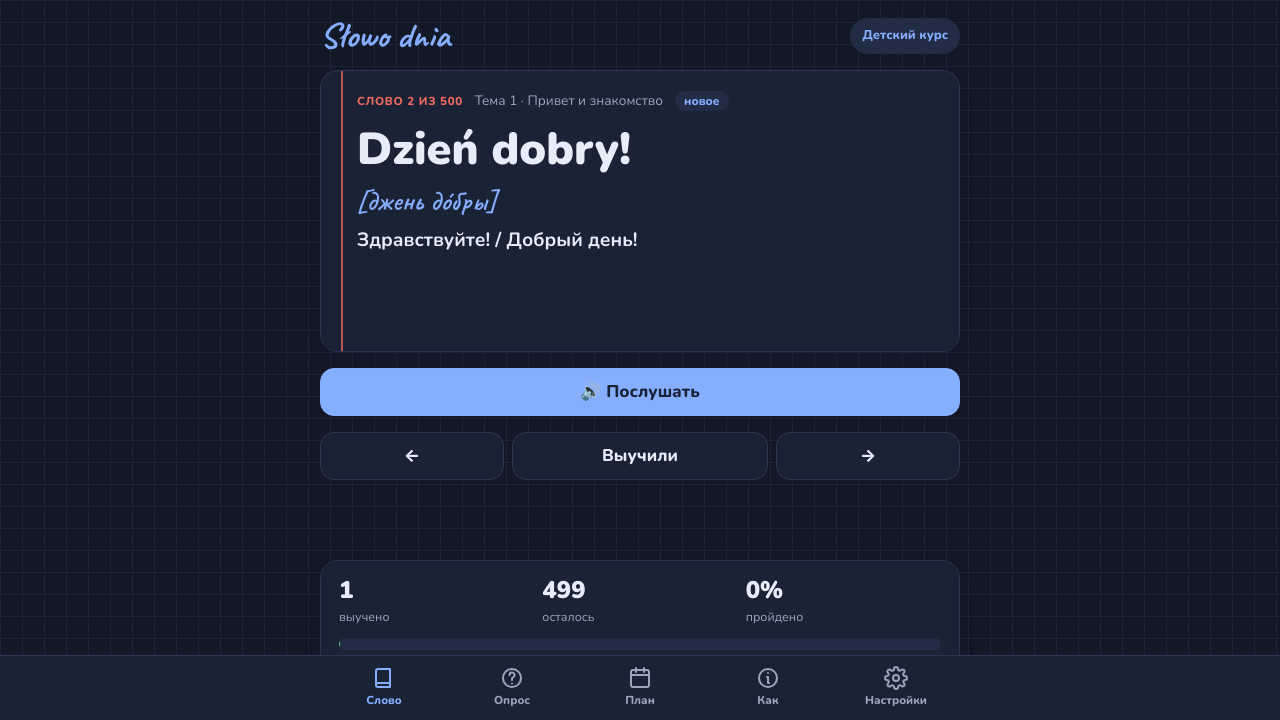
Test: "Вернуться к новому слову" › on another word: visible; a press opens the first unlearned word
Click the button named "Следующее слово".
click(868, 456)  # box [776, 432, 960, 480]
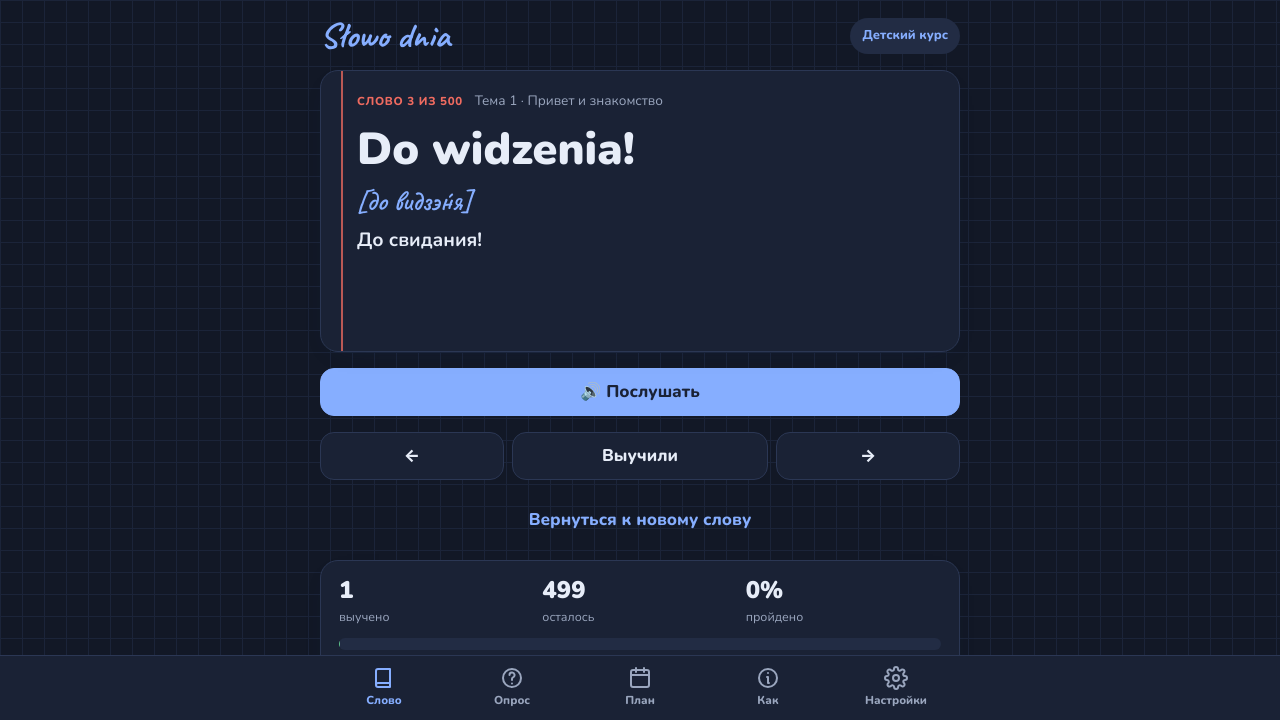
Click the button named "Следующее слово".
click(868, 456)  # box [776, 432, 960, 480]
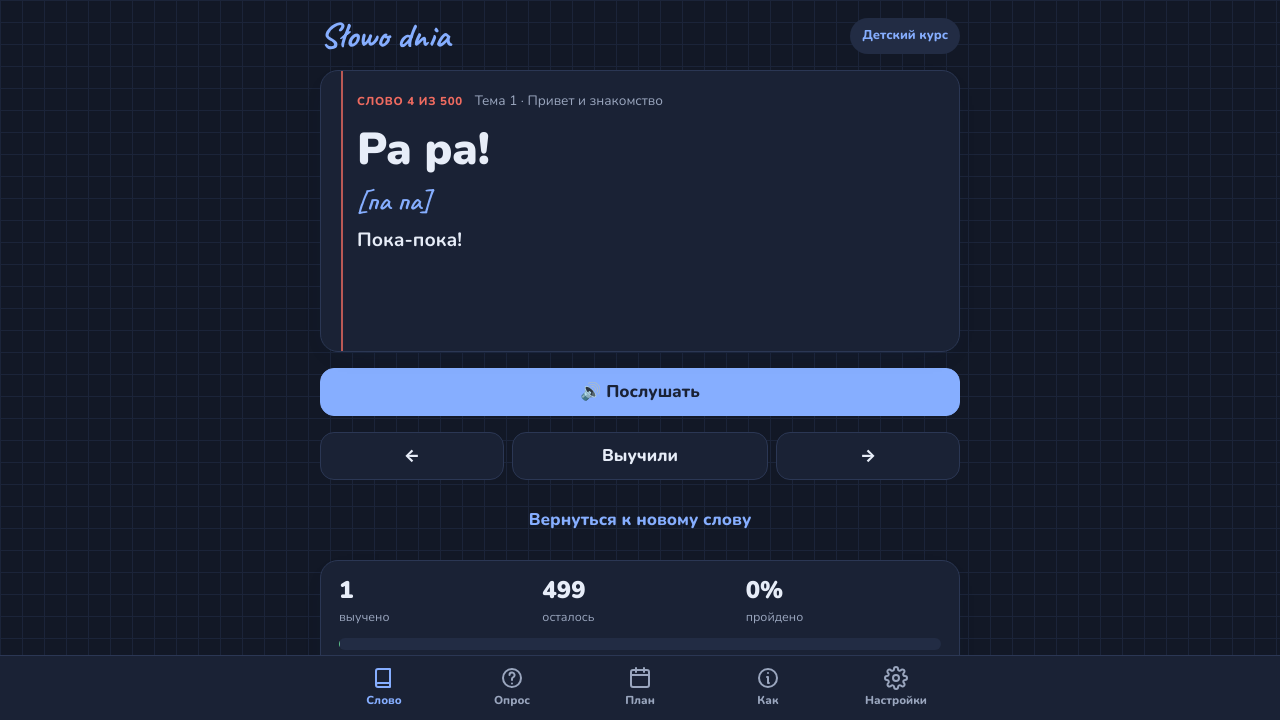
Click the button "Вернуться к новому слову".
click(640, 520)  # box [320, 496, 960, 544]
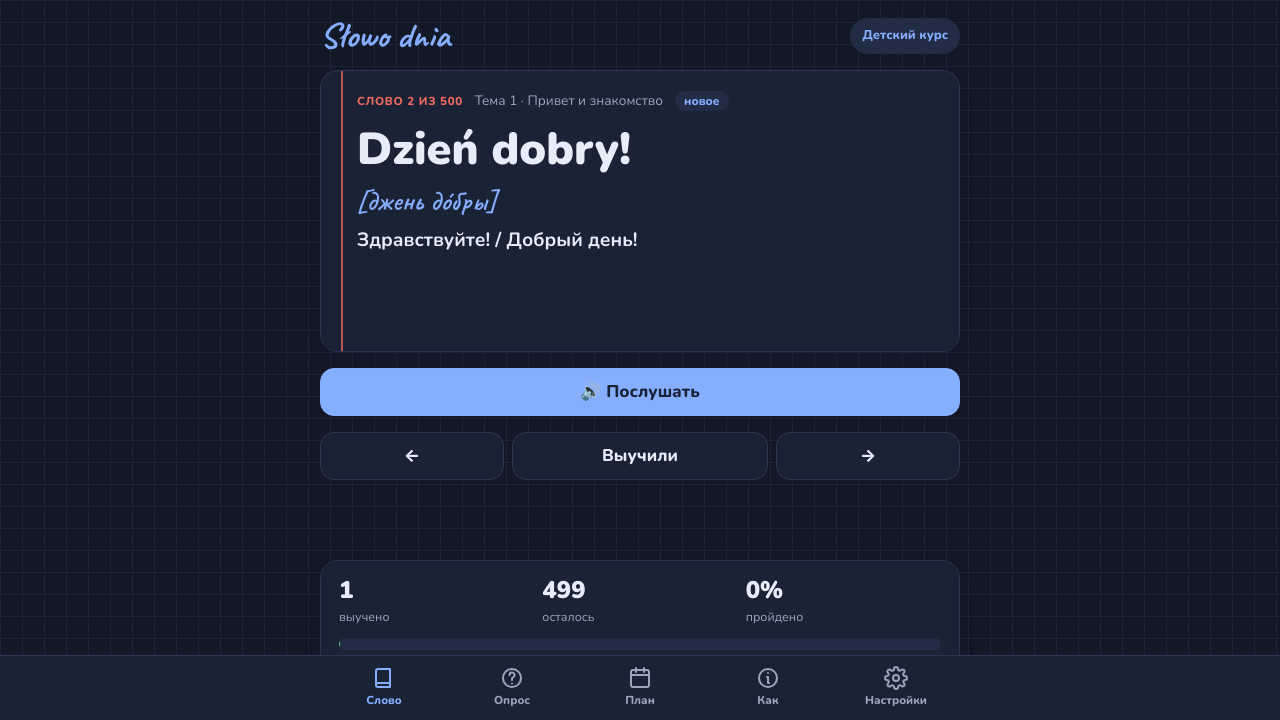
Check: the text "Слово 2 из 500" is shown, box [357, 93, 463, 110]
